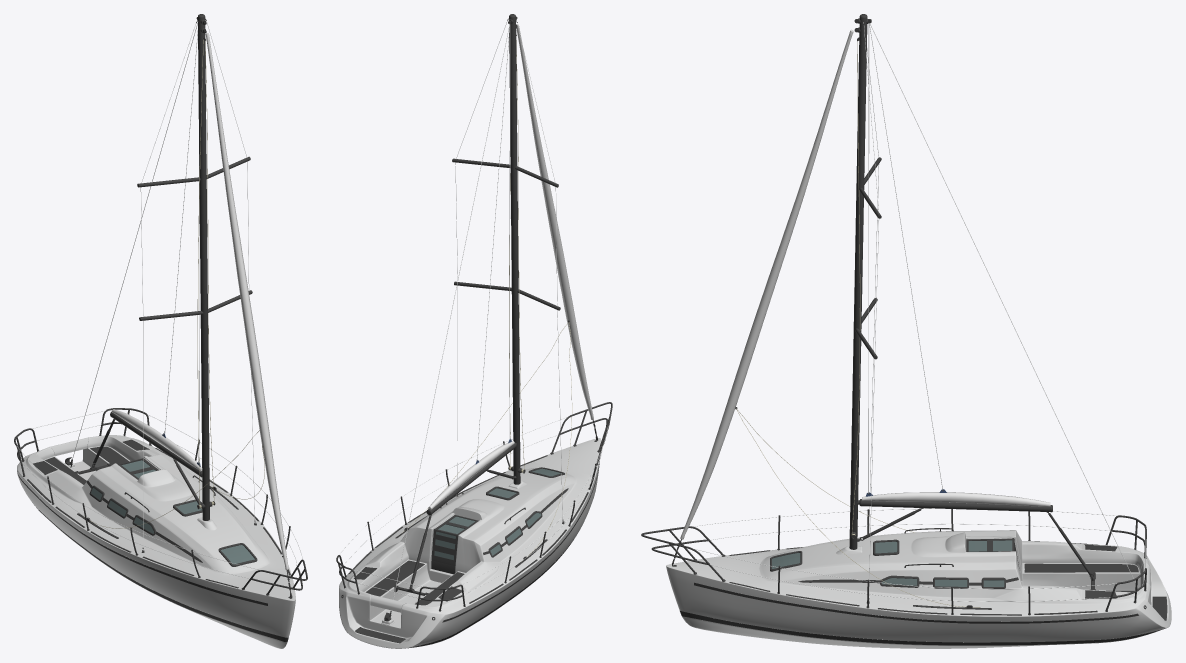
The picture shows the model from 3 angles, left to right: view 1: azimuth 30°, elevation 25°; view 2: azimuth 150°, elevation 25°; view 3: azimuth 270°, elevation 25°; orthographic projection. The views are drawn at different scales.
Parts seen in each view (by area): view 1: arch48_012_obj_04, arch48_012_obj_00, Object59241, arch48_012_obj_02, arch48_012_obj_06, arch48_012_obj_03, arch48_012_obj_07, arch48_012_obj_01; view 2: arch48_012_obj_04, arch48_012_obj_00, Object59241, arch48_012_obj_02, arch48_012_obj_03, arch48_012_obj_06, arch48_012_obj_01, arch48_012_obj_07; view 3: arch48_012_obj_04, arch48_012_obj_00, Object59241, arch48_012_obj_02, arch48_012_obj_06, arch48_012_obj_03, arch48_012_obj_01, arch48_012_obj_07.
Part boxes in pixels (x1,y1,x2,y2): arch48_012_obj_04: [17, 435, 295, 648]; arch48_012_obj_00: [14, 14, 307, 598]; Object59241: [112, 33, 288, 569]; arch48_012_obj_02: [17, 18, 302, 578]; arch48_012_obj_06: [17, 419, 288, 642]; arch48_012_obj_03: [27, 439, 290, 588]; arch48_012_obj_07: [84, 40, 264, 528]; arch48_012_obj_01: [91, 460, 254, 564]; arch48_012_obj_04: [339, 438, 601, 648]; arch48_012_obj_00: [336, 14, 612, 621]; Object59241: [428, 24, 593, 509]; arch48_012_obj_02: [339, 18, 608, 610]; arch48_012_obj_03: [348, 455, 596, 643]; arch48_012_obj_06: [393, 442, 599, 648]; arch48_012_obj_01: [434, 468, 561, 559]; arch48_012_obj_07: [401, 40, 572, 561]; arch48_012_obj_04: [666, 530, 1171, 648]; arch48_012_obj_00: [641, 14, 1146, 615]; Object59241: [680, 29, 1050, 539]; arch48_012_obj_02: [692, 22, 1145, 601]; arch48_012_obj_06: [680, 500, 1164, 645]; arch48_012_obj_03: [729, 541, 1167, 620]; arch48_012_obj_01: [772, 540, 1012, 586]; arch48_012_obj_07: [736, 41, 979, 607].
Size of the model in its own units: 341 by 1246 by 952.
